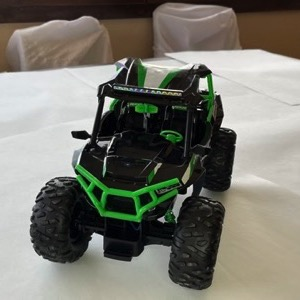polaris: (28, 54, 238, 291)
